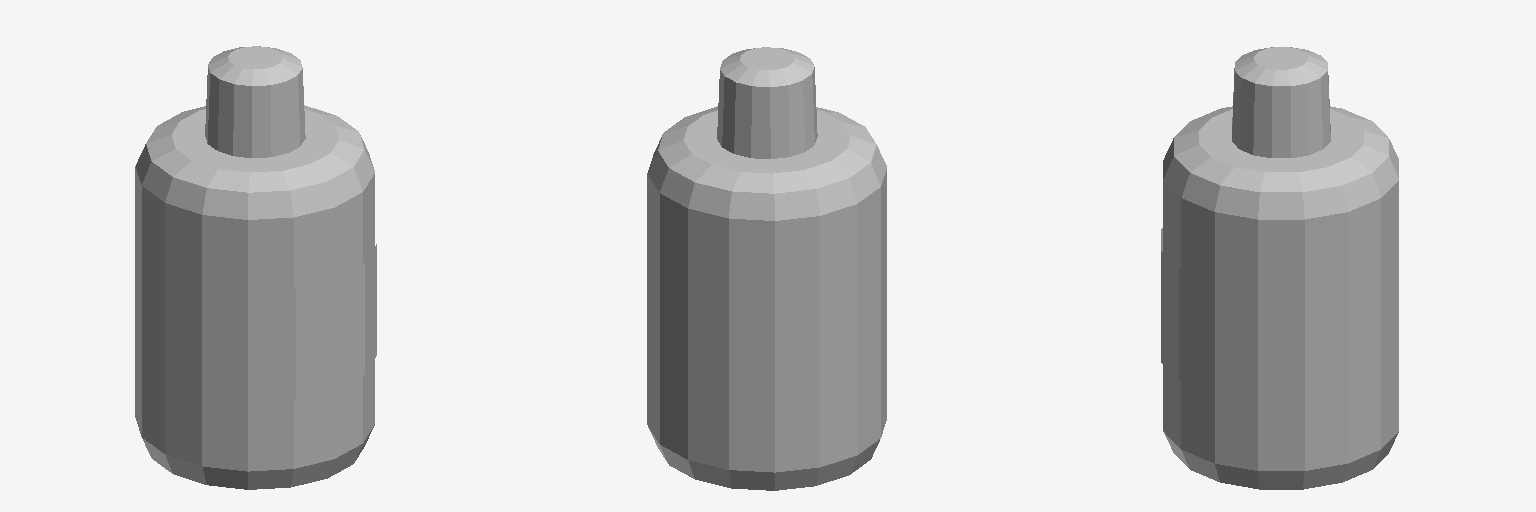
Rendered from container_bathroom_A_blue.obj.
3 renders of one model, left to right at view 1: azimuth 30°, elevation 25°; view 2: azimuth 150°, elevation 25°; view 3: azimuth 270°, elevation 25°, orthographic.
Visible parts, largest first — view 1: container_bathroom_A_blue; view 2: container_bathroom_A_blue; view 3: container_bathroom_A_blue.
Boxes of the visible parts, x1=… form: container_bathroom_A_blue: x1=135, y1=46, x2=376, y2=489; container_bathroom_A_blue: x1=647, y1=47, x2=886, y2=490; container_bathroom_A_blue: x1=1161, y1=47, x2=1398, y2=489.
Bounding box in the file's own units: 0.312 × 0.5778 × 0.3162.